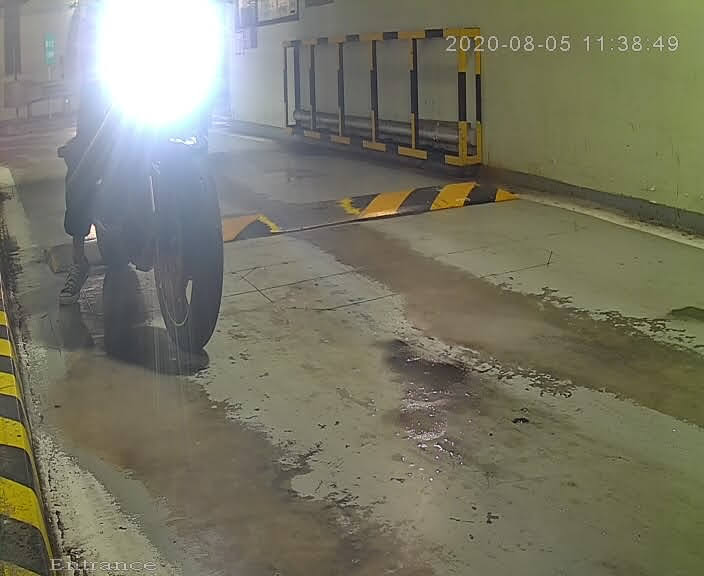motorcycle: (47, 1, 237, 367)
